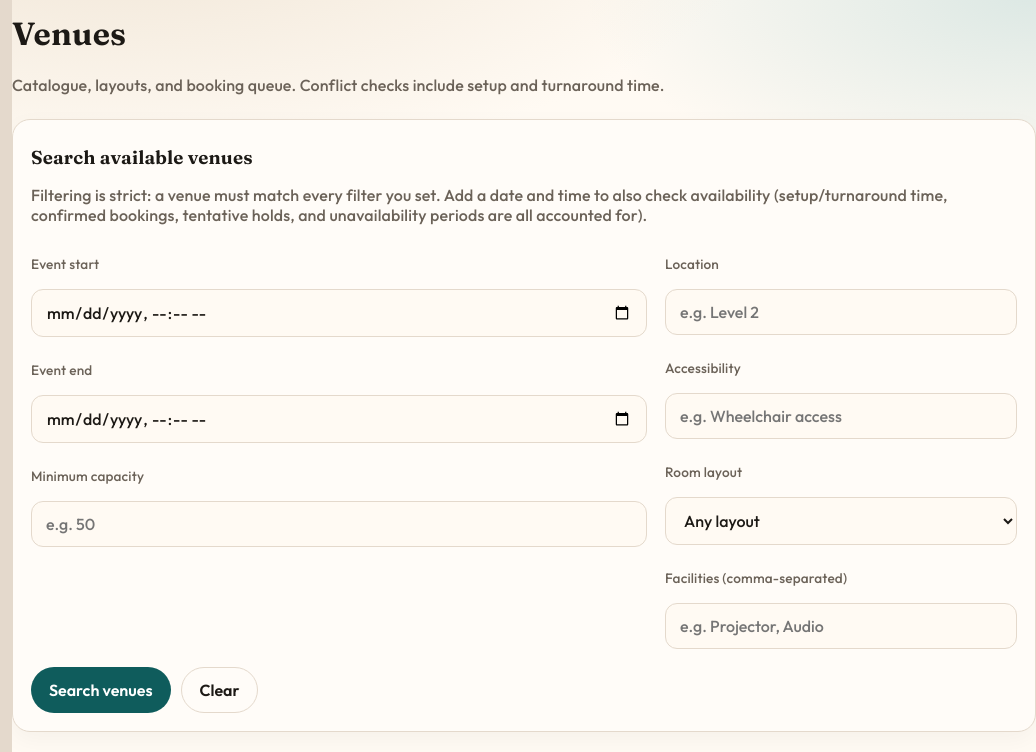
Test: SCUM-24 venue search results › shows a clear message when no venue matches
Click the button "Search venues" at x=101, y=690, box [31,667,170,713]
(page scrolled)
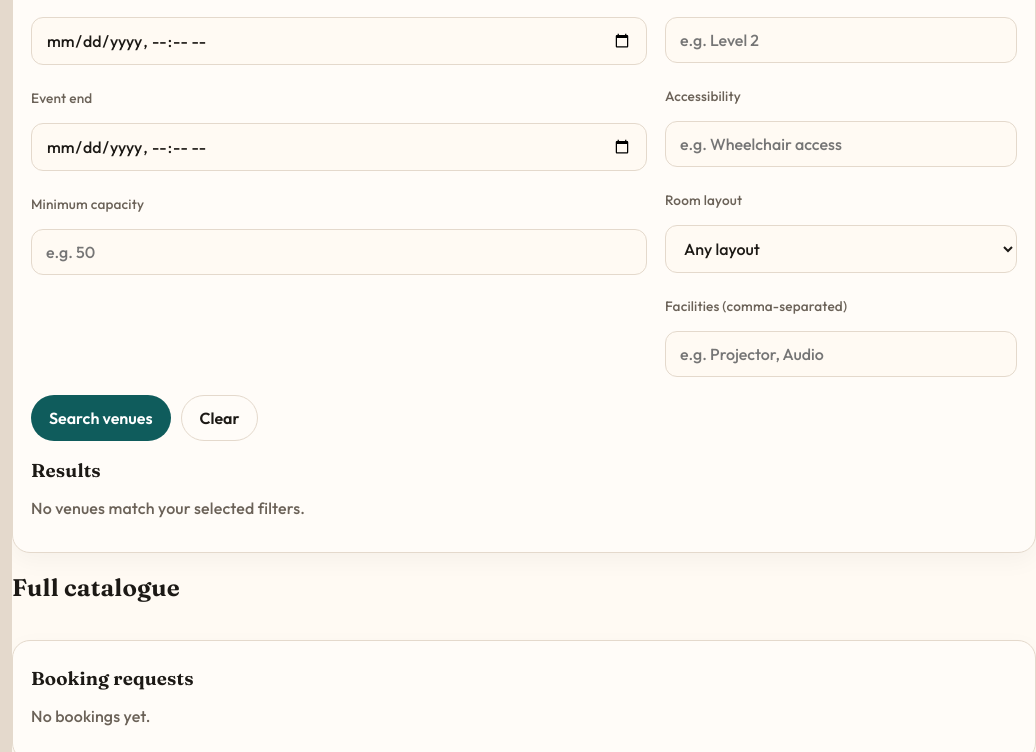
Expected: the text "No venues match your selected filters." is shown, [31,498,305,518]
